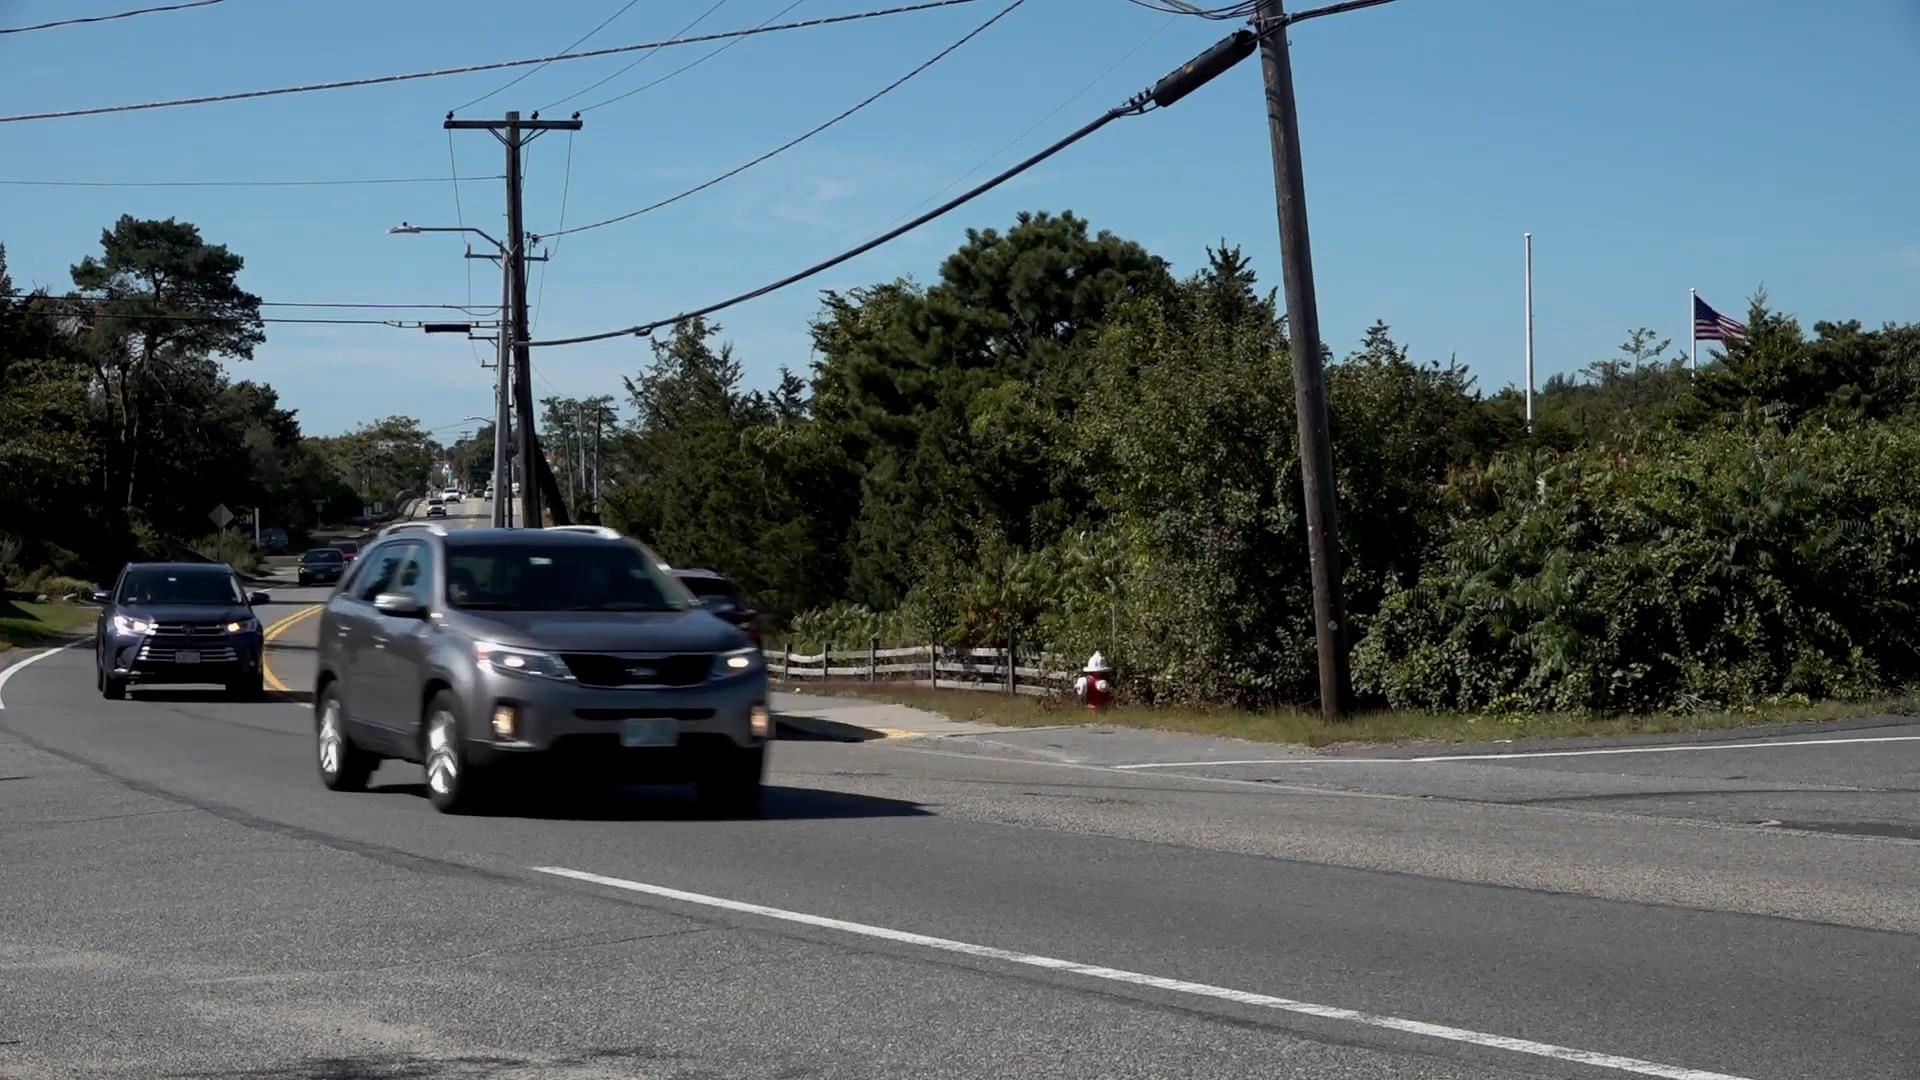suv: (318, 525, 778, 819), (100, 562, 266, 705)
